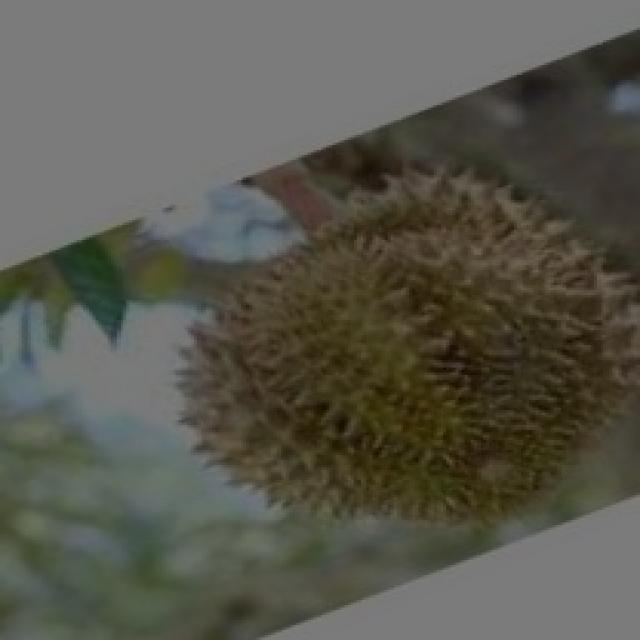fruit: (120, 183, 486, 595)
